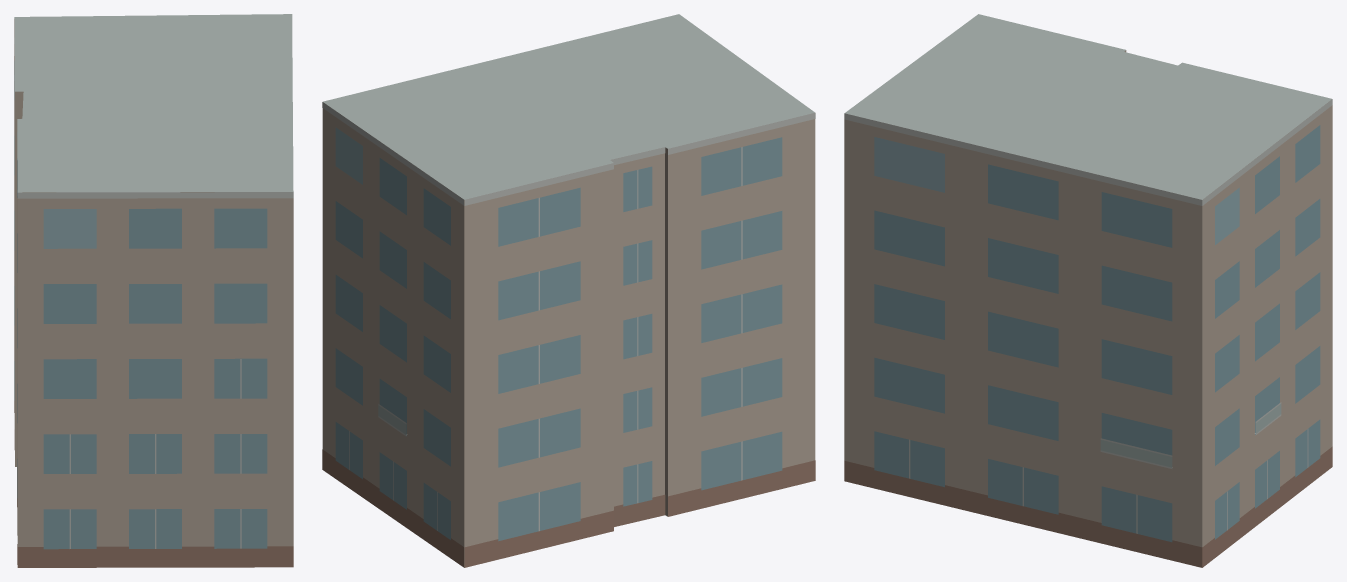
File: survey-upis-32664243.glb
3 views of the same model, side by side, from view 1: azimuth 30°, elevation 25°; view 2: azimuth 150°, elevation 25°; view 3: azimuth 270°, elevation 25° (orthographic). The views are drawn at different scales.
Visible parts, largest first — view 1: survey-upis-32664243.tmp; view 2: survey-upis-32664243.tmp; view 3: survey-upis-32664243.tmp.
Boxes of the visible parts, x1=… form: survey-upis-32664243.tmp: x1=14, y1=14, x2=293, y2=567; survey-upis-32664243.tmp: x1=322, y1=14, x2=815, y2=567; survey-upis-32664243.tmp: x1=844, y1=14, x2=1332, y2=567.
Size of the model in its own units: 15.83 by 14.6 by 17.56.
